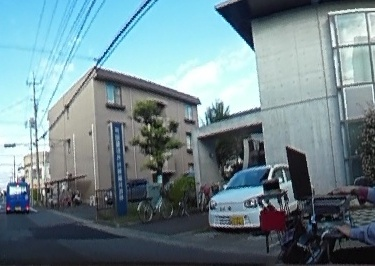person: (337, 75, 375, 266)
